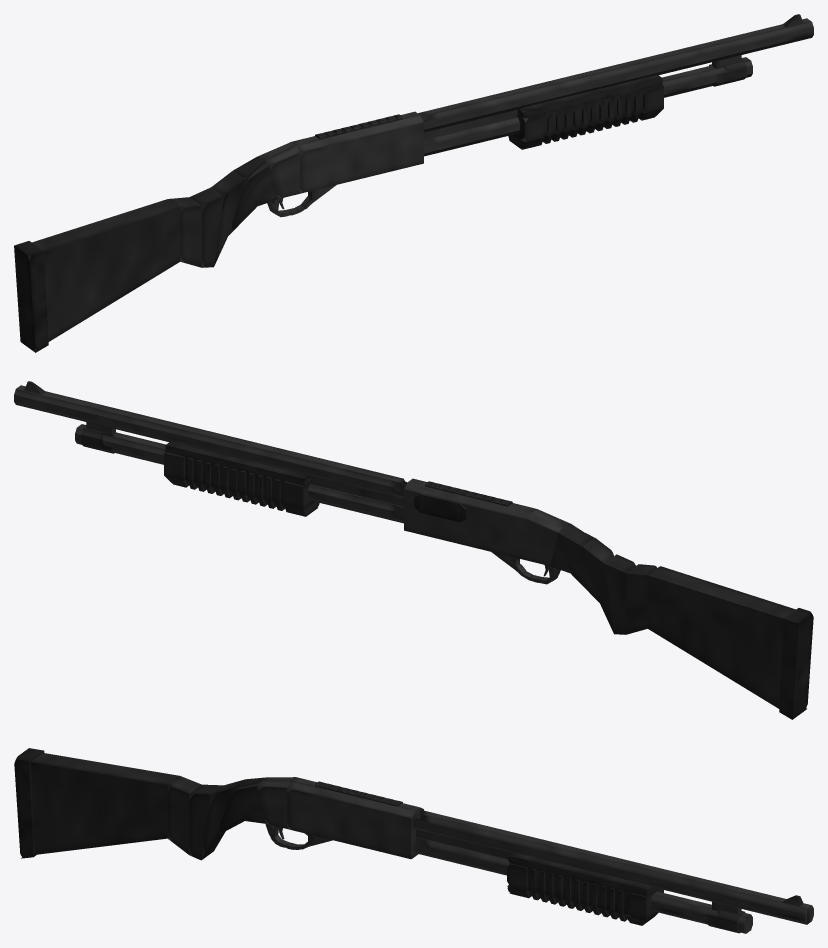
3 views of the same model, one above another, from view 1: azimuth 30°, elevation 25°; view 2: azimuth 150°, elevation 25°; view 3: azimuth 330°, elevation 25° (orthographic).
Visible parts, largest first — view 1: gunModel0, gunModel8_1, gunModel6, gunModel43, gunModel9_1, gunModel8, pumpModel28, gunModel1, gunModel2, pumpModel2, gunModel27, gunModel3 (+5 smaller); view 2: gunModel0, gunModel8_2, gunModel6, gunModel43, gunModel9_2, gunModel8, pumpModel28, gunModel1, gunModel2, gunModel27, gunModel3, pumpModel2 (+5 smaller); view 3: gunModel0, gunModel8_1, gunModel6, gunModel9_1, gunModel8, gunModel43, pumpModel28, gunModel1, gunModel2, gunModel27, gunModel3, pumpModel2 (+8 smaller).
Boxes of the visible parts, left/top/right/bottom form: gunModel0: left=25, top=199, right=180, bottom=350; gunModel8_1: left=424, top=22, right=813, bottom=132; gunModel6: left=295, top=122, right=423, bottom=193; gunModel43: left=14, top=241, right=48, bottom=352; gunModel9_1: left=424, top=61, right=752, bottom=156; gunModel8: left=421, top=18, right=811, bottom=122; pumpModel28: left=517, top=75, right=662, bottom=118; gunModel1: left=168, top=197, right=201, bottom=267; gunModel2: left=189, top=187, right=223, bottom=267; pumpModel2: left=520, top=89, right=648, bottom=136; gunModel27: left=291, top=111, right=423, bottom=152; gunModel3: left=211, top=171, right=245, bottom=266; gunModel0: left=647, top=566, right=805, bottom=708; gunModel8_2: left=14, top=389, right=406, bottom=499; gunModel6: left=404, top=489, right=527, bottom=560; gunModel43: left=779, top=608, right=813, bottom=719; gunModel9_2: left=75, top=428, right=403, bottom=523; gunModel8: left=16, top=385, right=406, bottom=493; pumpModel28: left=165, top=442, right=310, bottom=485; gunModel1: left=626, top=564, right=657, bottom=634; gunModel2: left=604, top=554, right=635, bottom=634; gunModel27: left=404, top=478, right=535, bottom=519; gunModel3: left=582, top=538, right=613, bottom=633; pumpModel2: left=185, top=457, right=284, bottom=503; gunModel0: left=30, top=753, right=179, bottom=854; gunModel8_1: left=413, top=816, right=806, bottom=924; gunModel6: left=287, top=782, right=423, bottom=859; gunModel9_1: left=413, top=840, right=745, bottom=933; gunModel8: left=415, top=811, right=811, bottom=924; gunModel43: left=14, top=748, right=44, bottom=858; pumpModel28: left=508, top=852, right=657, bottom=896; gunModel1: left=167, top=776, right=201, bottom=854; gunModel2: left=189, top=784, right=223, bottom=860; gunModel27: left=288, top=777, right=423, bottom=818; gunModel3: left=202, top=779, right=244, bottom=859; pumpModel2: left=527, top=867, right=631, bottom=914.
Bounding box in the file's own units: 36.2 × 6.35 × 1.4.
